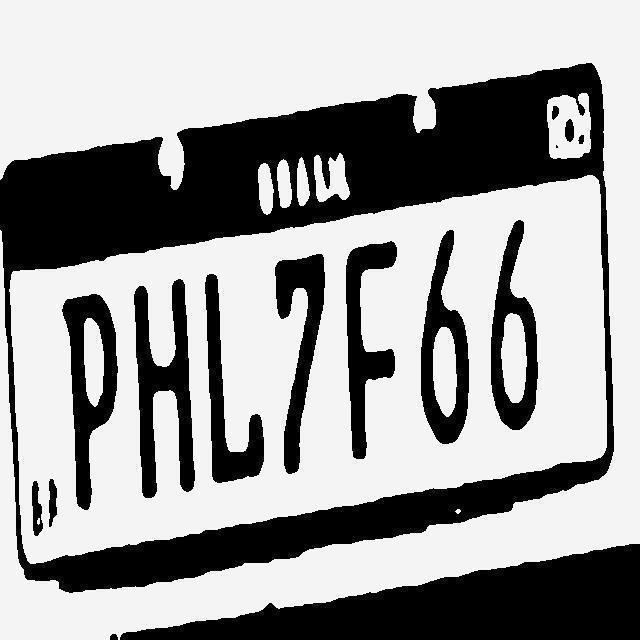6: (421, 228, 473, 442), (488, 218, 540, 432)
7: (275, 252, 327, 476)
f: (342, 240, 400, 462)
h: (132, 276, 196, 496)
l: (203, 271, 266, 485)
p: (59, 287, 120, 515)
